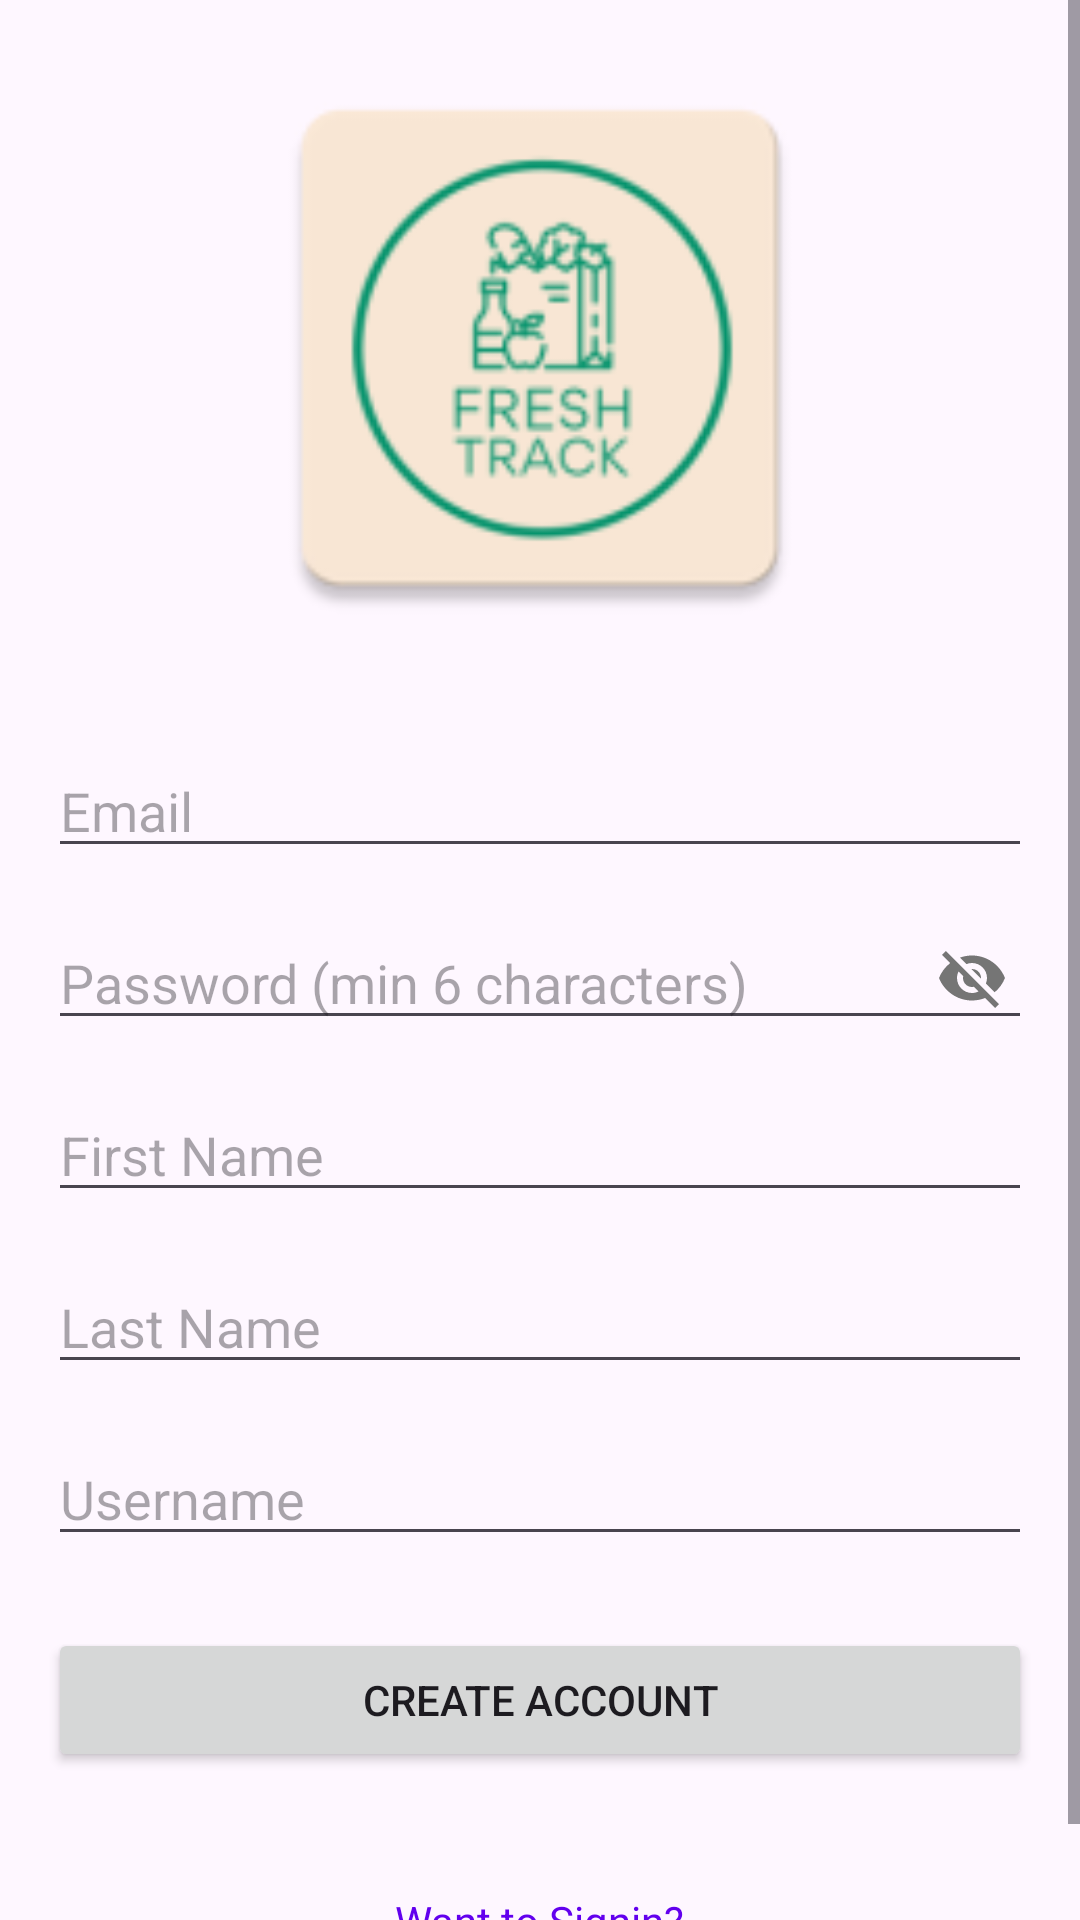

Named icons in this screenshot (1080w x 1920h) and their bounding boxes, (x1, y1, x2, y2):
Toggle password visibility: (939, 951, 1005, 1008)
